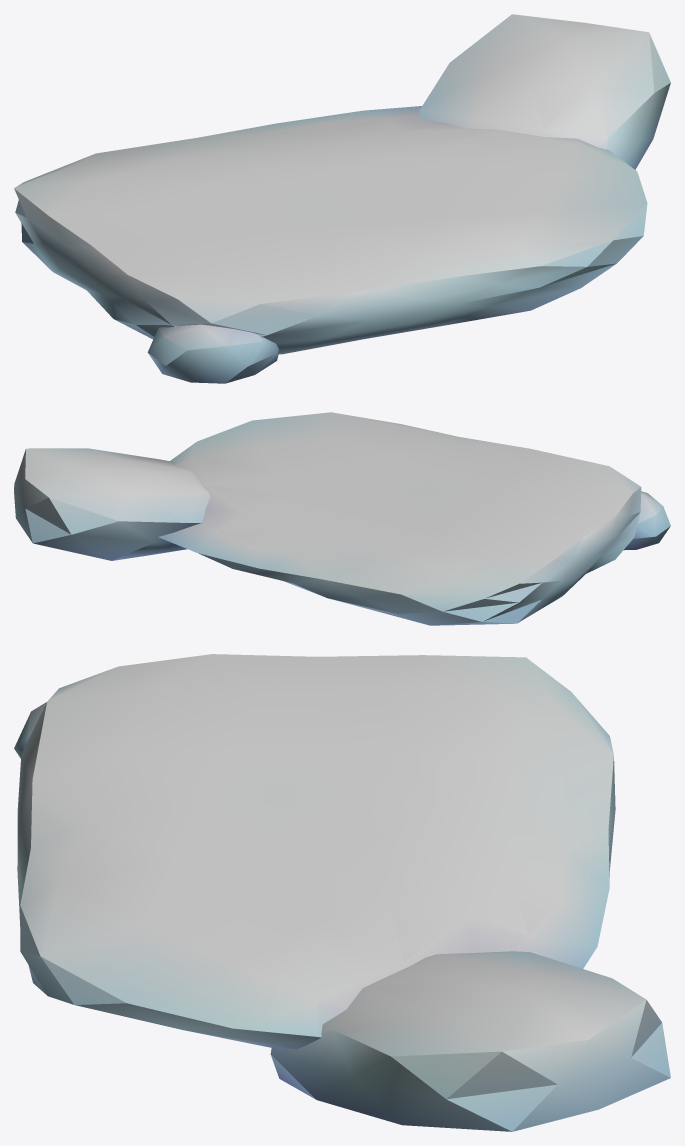
The model's file is glass_rock_slab_a.glb.
3 renders of one model, top to bottom at view 1: azimuth 30°, elevation 25°; view 2: azimuth 150°, elevation 25°; view 3: azimuth 270°, elevation 25°, orthographic. The views are drawn at different scales.
Parts seen in each view (by area): view 1: glass_rock_slab_a; view 2: glass_rock_slab_a; view 3: glass_rock_slab_a.
Part boxes in pixels (<box>): glass_rock_slab_a: <box>14,14,670,383</box>; glass_rock_slab_a: <box>14,412,670,625</box>; glass_rock_slab_a: <box>14,654,670,1131</box>.
Size of the model in its own units: 4.76 by 0.7476 by 3.1.
